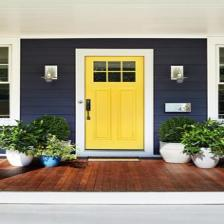yellow: (76, 49, 154, 157)
